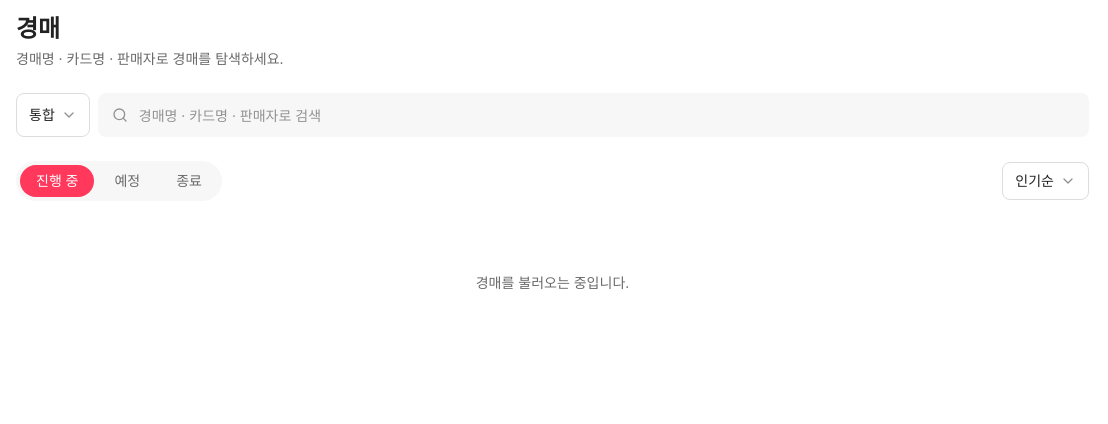
Test: 경매 목록 라우트 › 예정 탭에서는 ["종료 임박순"] 을 제외한 정렬 기준만 보여준다
Press the mouse on the tab "예정" at (127,181), box x1=98 y1=165 x2=156 y2=197
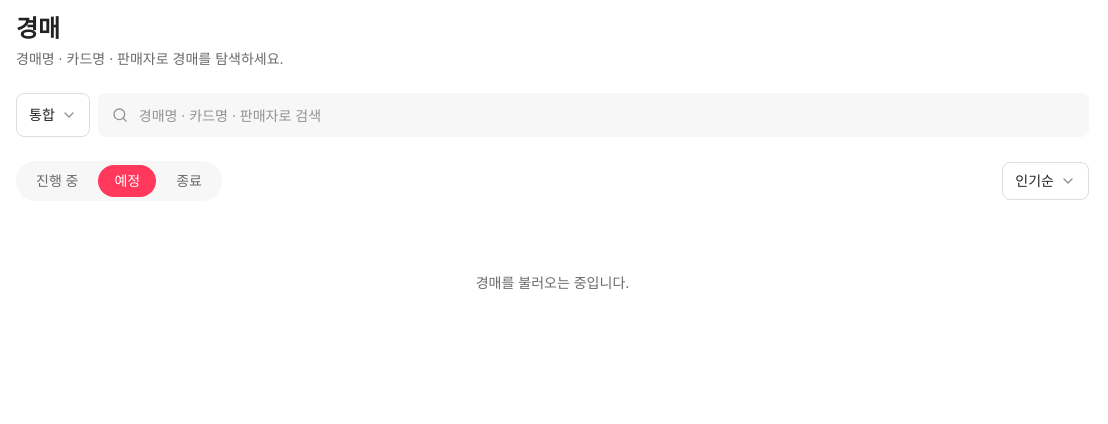
Press Enter in the button "인기순", box x1=1002 y1=162 x2=1089 y2=200
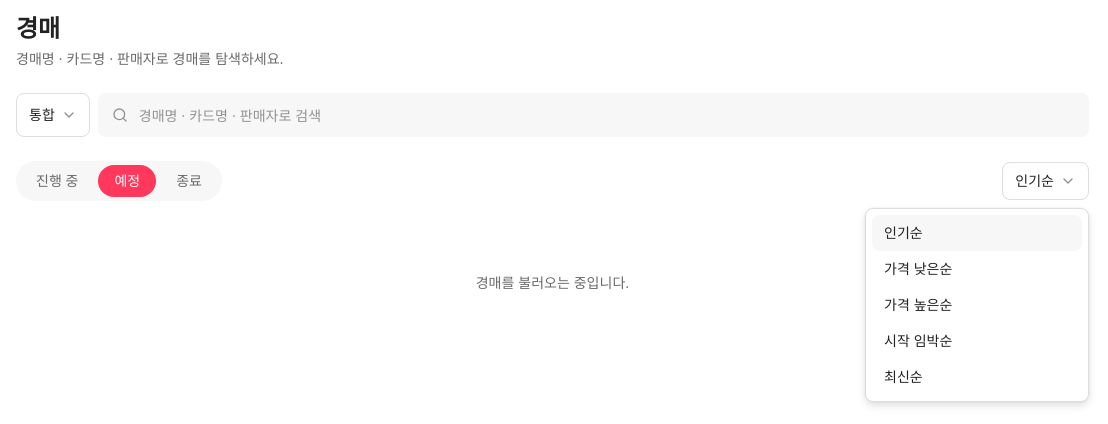
Now the menu item "인기순" is shown, box x1=872 y1=215 x2=1082 y2=251
Now the menu item "가격 낮은순" is shown, box x1=884 y1=260 x2=952 y2=277
Now the menu item "가격 높은순" is shown, box x1=884 y1=296 x2=952 y2=313
